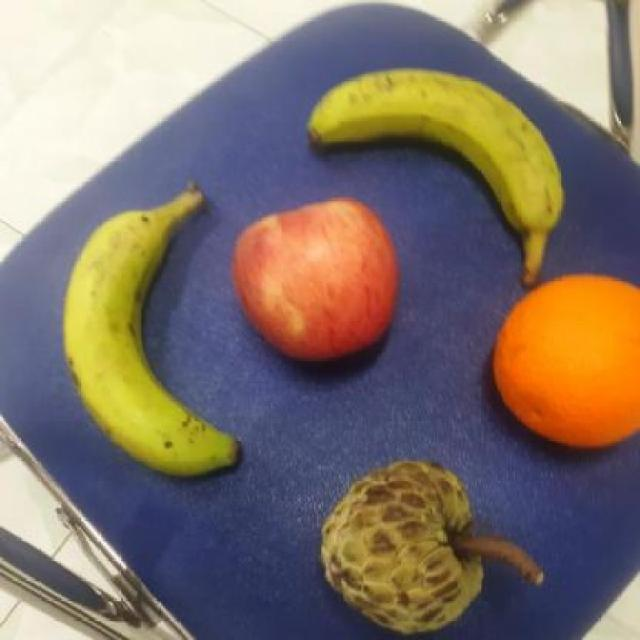apple: (228, 193, 402, 367)
banana: (57, 179, 245, 479), (302, 63, 563, 243)
oren: (489, 270, 640, 453)
sugar apple: (315, 460, 483, 640)
